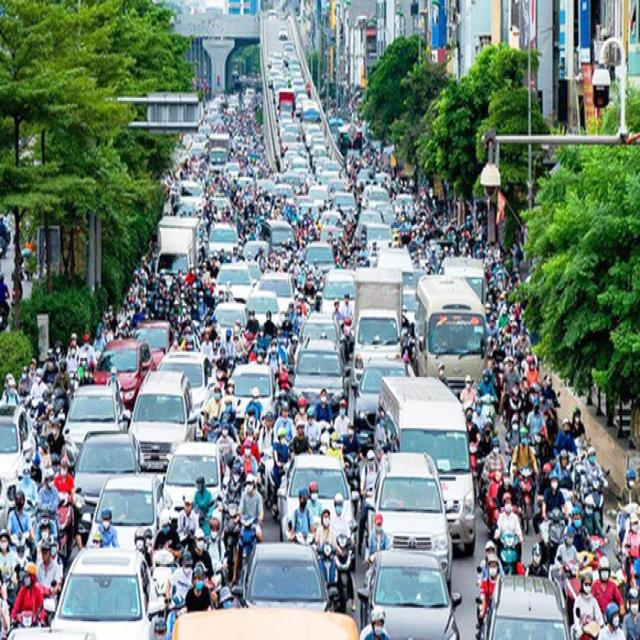Car: (4, 546, 159, 638), (358, 450, 453, 587), (358, 548, 462, 638), (277, 453, 358, 545), (73, 430, 141, 538), (230, 540, 332, 610), (128, 368, 197, 471), (86, 470, 173, 551), (481, 572, 572, 638), (172, 606, 359, 638), (62, 383, 130, 467), (426, 276, 479, 376), (162, 442, 226, 514), (92, 338, 154, 409), (351, 308, 403, 388), (354, 358, 415, 425), (290, 338, 346, 408), (157, 349, 215, 415), (1, 402, 36, 484), (228, 362, 276, 420), (157, 215, 192, 275), (298, 311, 345, 351), (133, 320, 172, 368), (320, 269, 357, 314), (256, 272, 296, 312), (214, 262, 254, 302), (211, 301, 249, 340), (246, 289, 282, 329), (261, 219, 297, 253), (208, 222, 240, 260), (304, 241, 336, 272), (243, 240, 271, 263), (208, 146, 228, 171), (280, 92, 294, 120), (302, 108, 322, 121), (279, 26, 289, 40)
